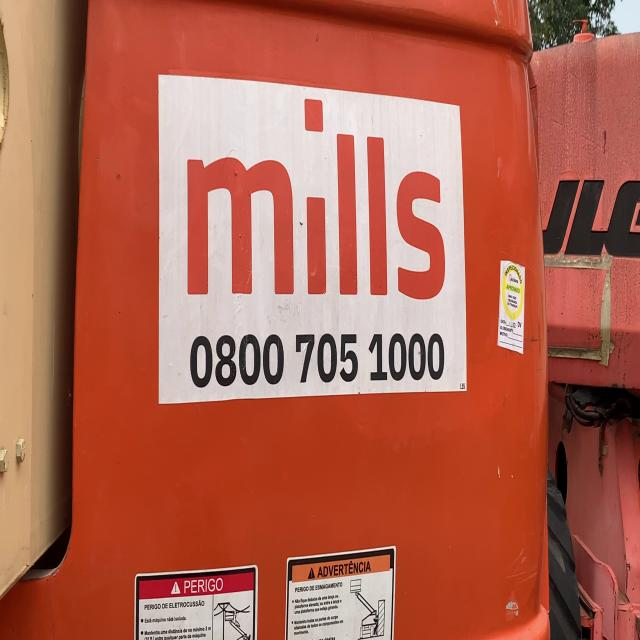Adesivos: (151, 70, 470, 411)
